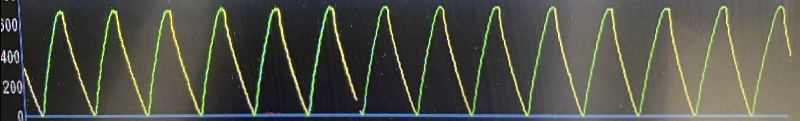normal_volume: (32, 0, 770, 120)
